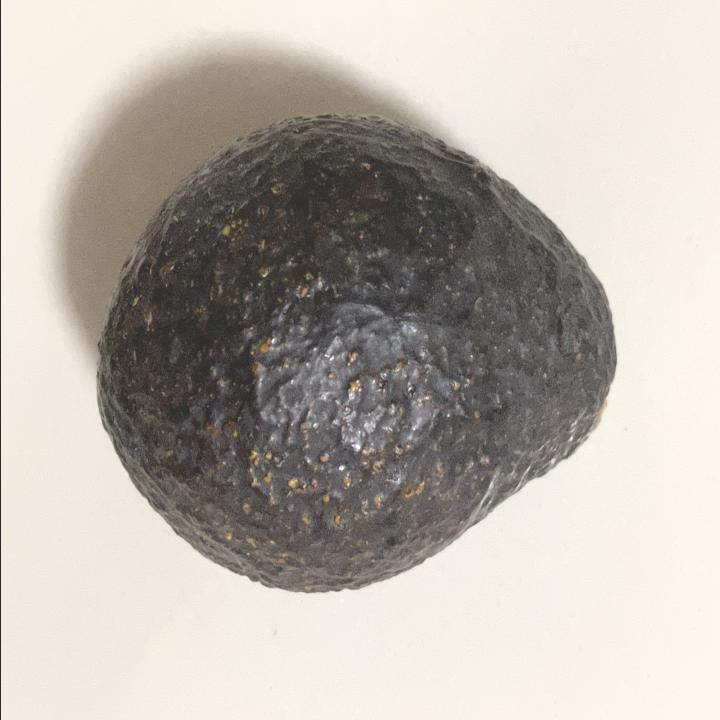Level2: (91, 108, 627, 602)
